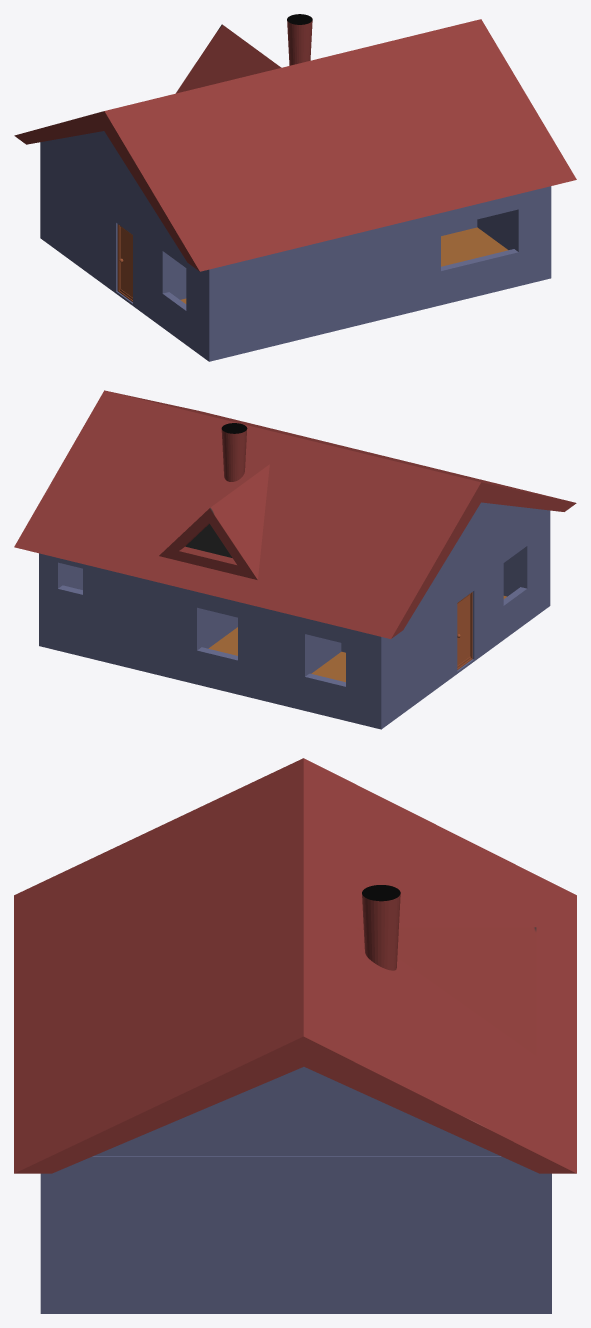
Rendered from House.fbx.
3 views of the same model, one above another, from view 1: azimuth 30°, elevation 25°; view 2: azimuth 150°, elevation 25°; view 3: azimuth 270°, elevation 25° (orthographic). The views are drawn at different scales.
Visible parts, largest first — view 1: Roof_1, House_Layout, Roof_2, Chimney, Door_1; view 2: Roof_1, House_Layout, Roof_2, Chimney, Door_1; view 3: Roof_1, House_Layout, Roof_2, Chimney.
Part boxes in pixels (x1,y1,x2,y2): Roof_1: (14,19,576,271); House_Layout: (40,141,551,361); Roof_2: (176,24,281,93); Chimney: (287,14,312,65); Door_1: (117,224,132,301); Roof_1: (14,390,576,638); House_Layout: (39,510,550,729); Roof_2: (159,464,269,579); Chimney: (221,423,247,481); Door_1: (457,592,472,669); Roof_1: (14,758,576,1173); House_Layout: (40,1156,551,1313); Roof_2: (355,927,536,1055); Chimney: (362,885,400,970).
Size of the model in its own units: 1215 by 647 by 1038.
